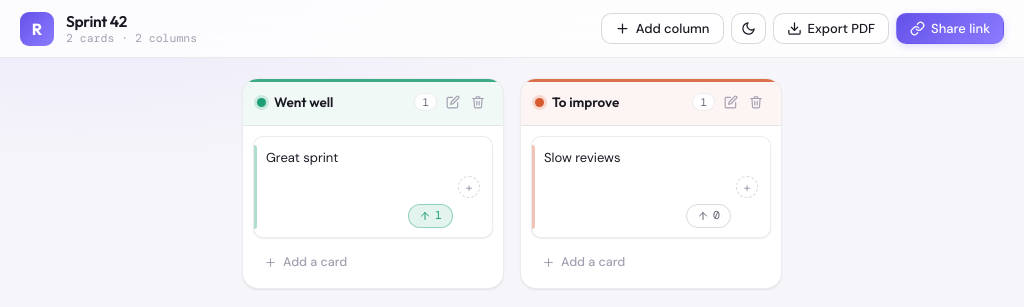
it: Board › removes a column and its cards from UI immediately when deleted (optimistic)
expect the text "Went well" is shown: met, box [274,93,333,111]
Click the button titled "Delete column" in the row of "Went well" at point(478, 102), box [467,91,489,113]
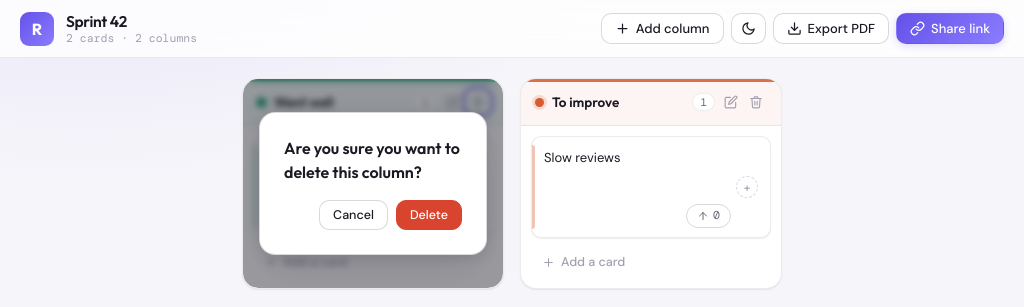
Click the button "Delete" at point(429, 215), box [396,200,462,230]
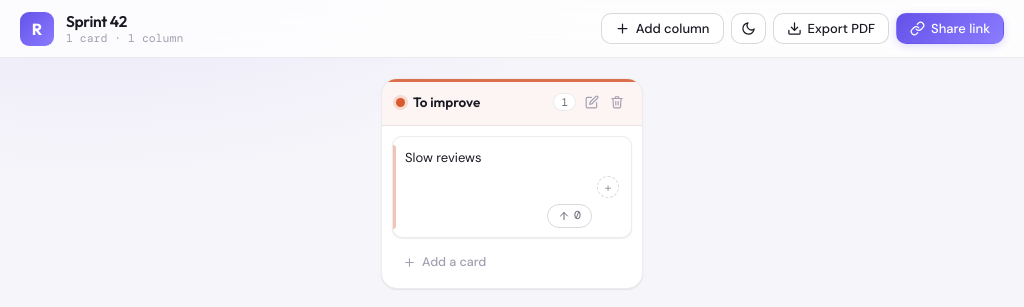
expect the text "Went well" is gone: met
expect the text "Great sprint" is gone: met
